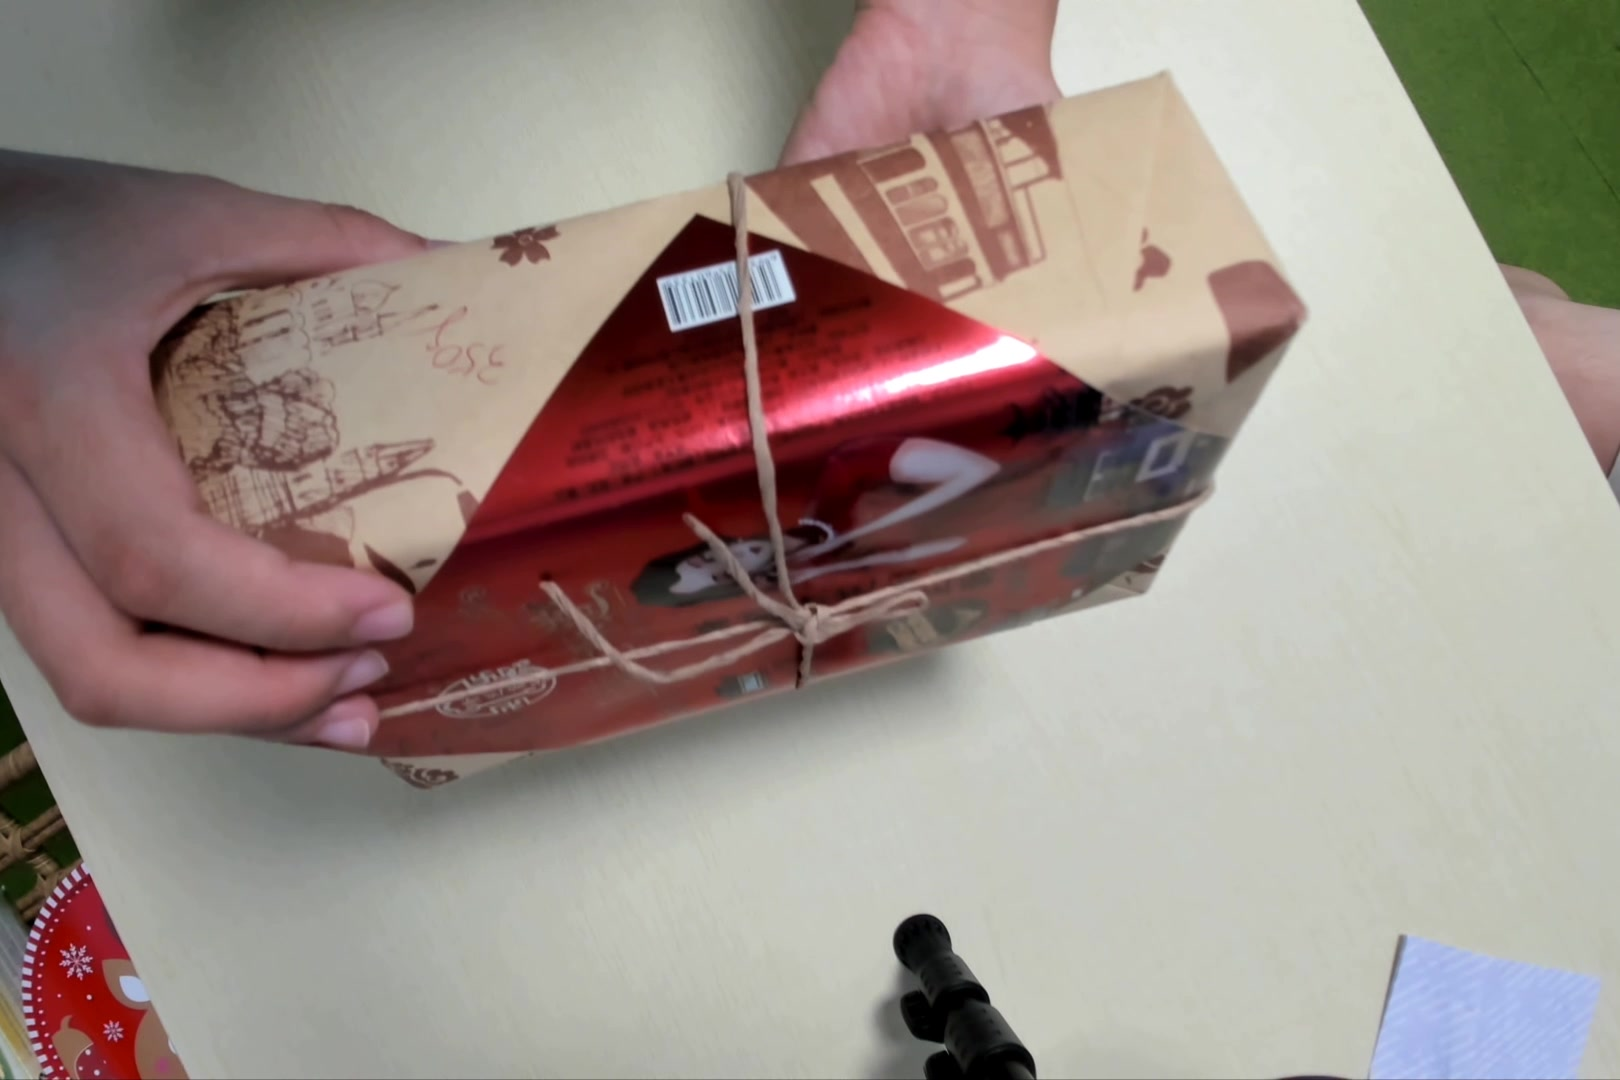BiscuitsCrackersCookies_400-499g_NonHalal_NonHealthy: (181, 74, 1301, 806)
